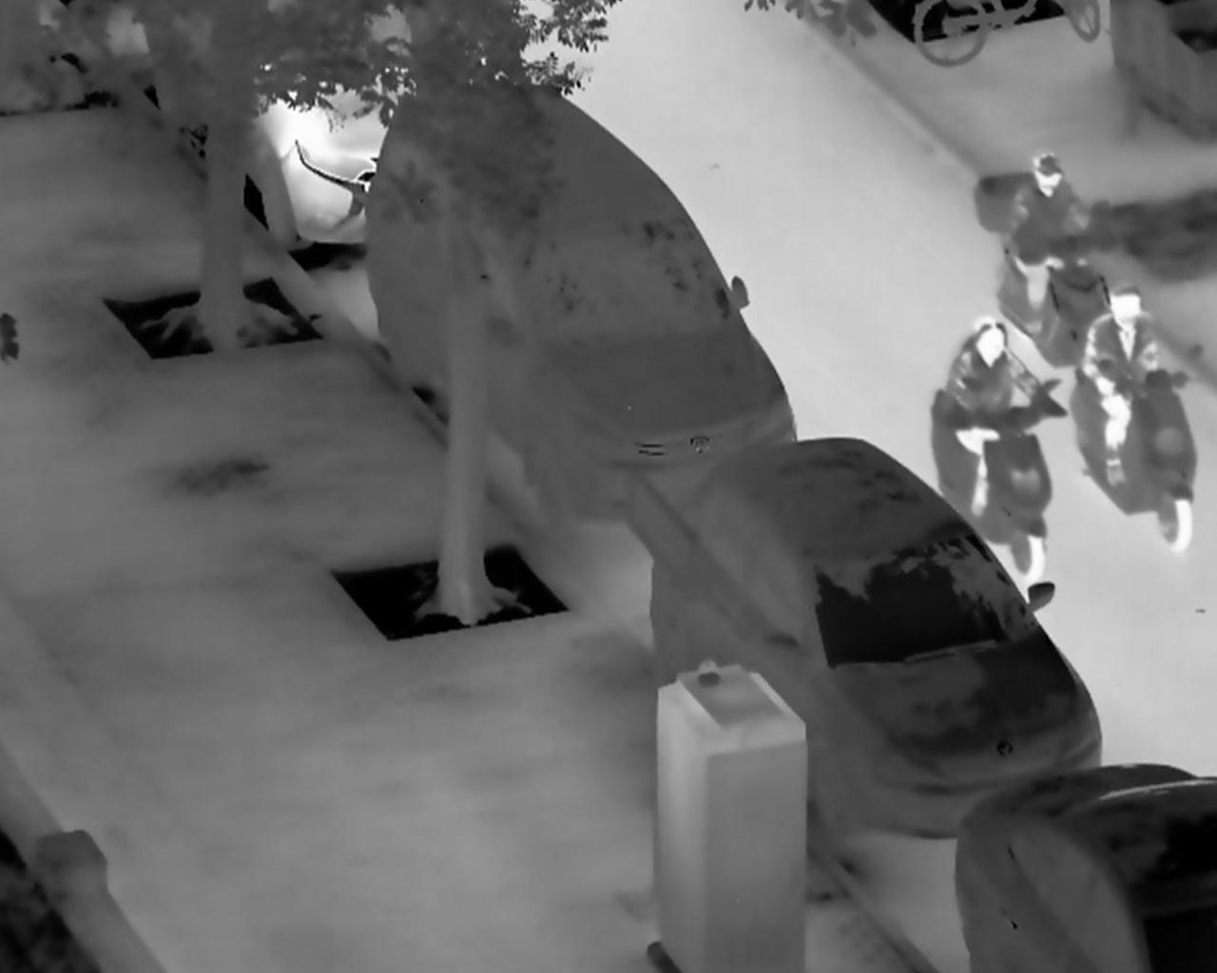person: (941, 320, 1059, 523), (1078, 282, 1175, 494), (1003, 150, 1089, 336)
